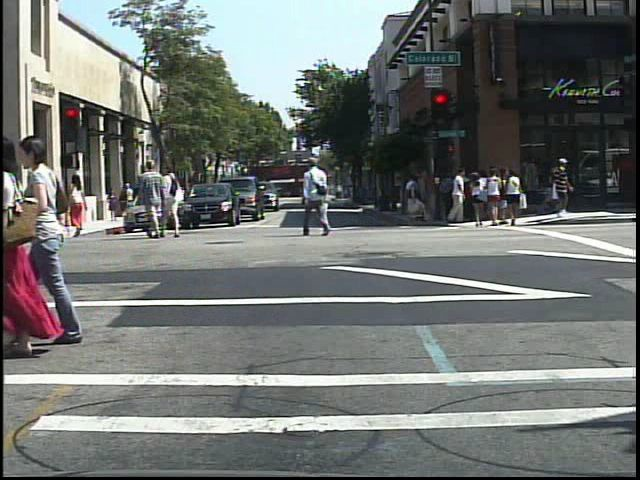person: (19, 130, 91, 348), (0, 129, 62, 364), (301, 152, 336, 242), (139, 155, 173, 243), (65, 168, 94, 242), (34, 167, 61, 244), (545, 155, 577, 219), (165, 160, 186, 240), (469, 172, 488, 231)
